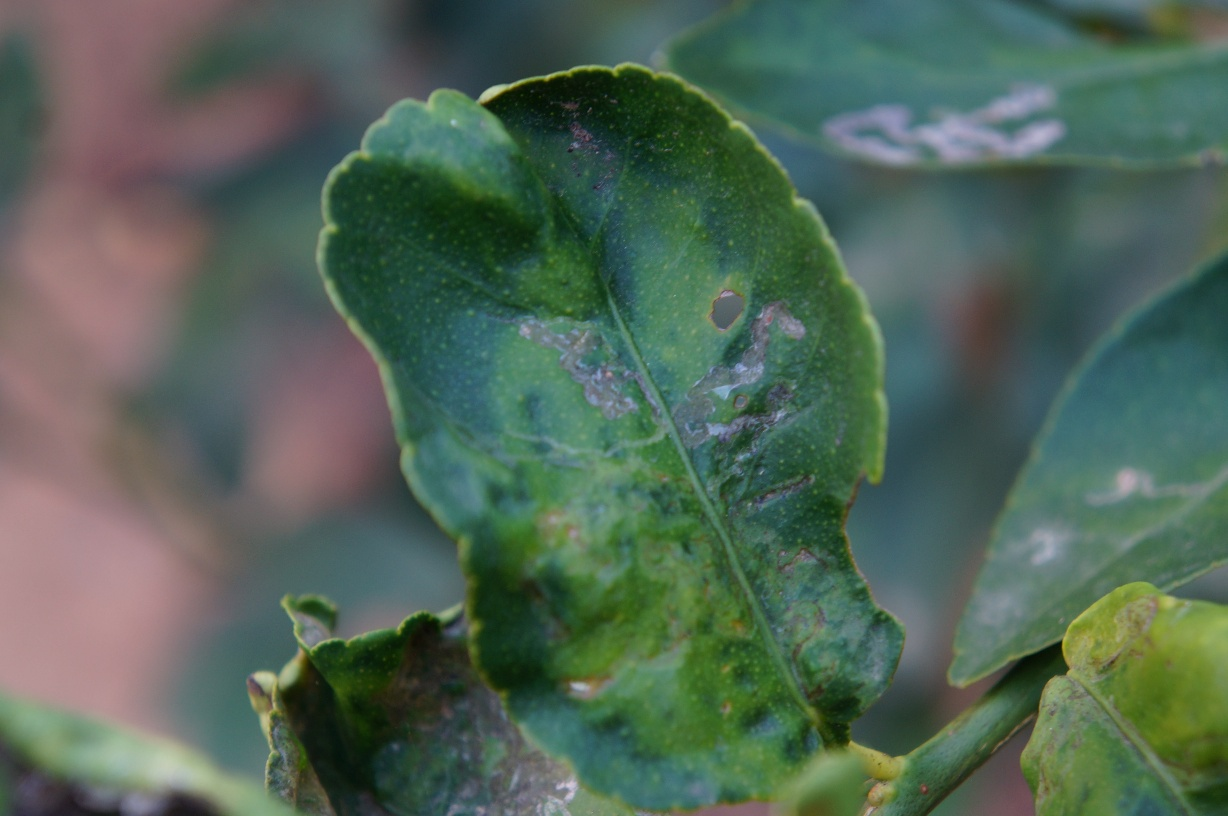damage: (677, 255, 863, 661), (503, 285, 707, 442)
